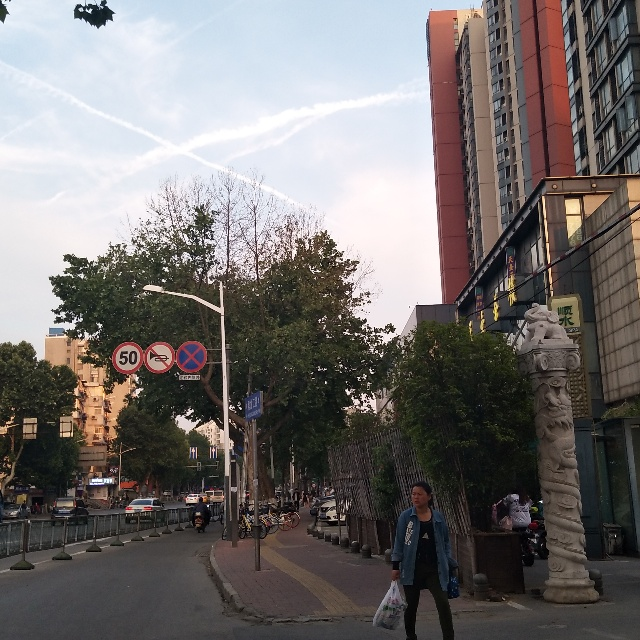nohonk: (143, 341, 175, 373)
stop: (176, 341, 207, 373)
